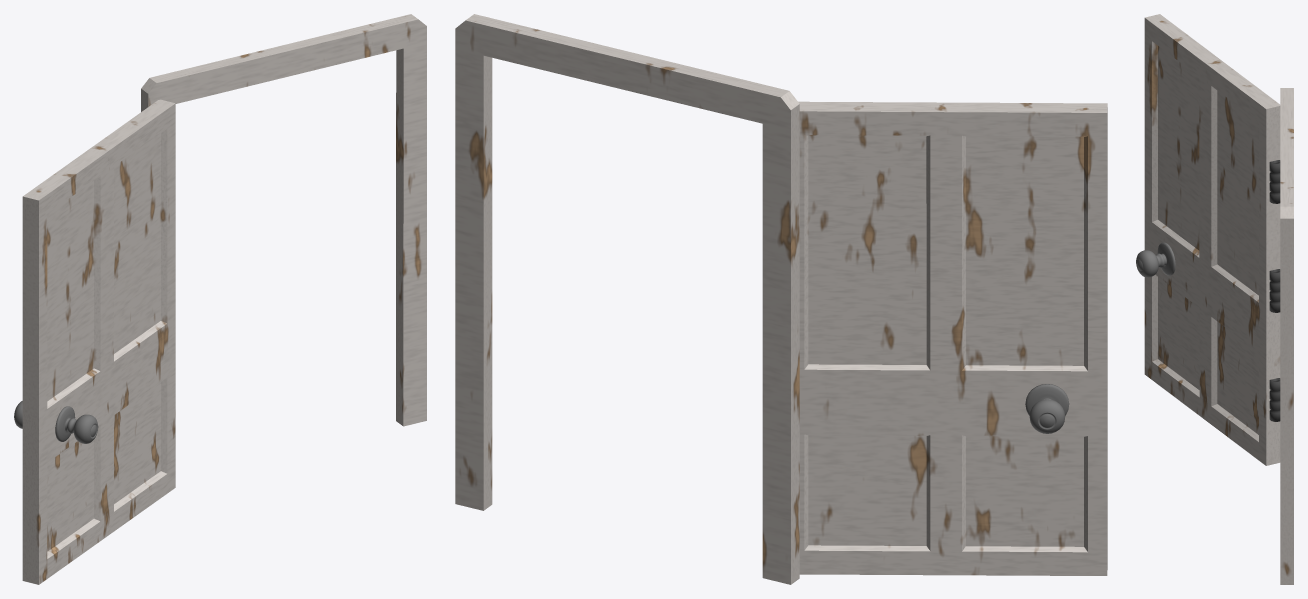
File: Door.fbx
3 renders of one model, left to right at view 1: azimuth 30°, elevation 25°; view 2: azimuth 150°, elevation 25°; view 3: azimuth 270°, elevation 25°, orthographic. The views are drawn at different scales.
Parts seen in each view (by area): view 1: Door_Front, Door_Outline_Front, DoorKnob_Hinges_Front; view 2: Door_Front, Door_Outline_Front, DoorKnob_Hinges_Front; view 3: Door_Front, Door_Outline_Front, DoorKnob_Hinges_Front.
Part boxes in pixels (box(x1,y1,x2,y2)): Door_Front: box(22, 99, 175, 584); Door_Outline_Front: box(141, 14, 426, 426); DoorKnob_Hinges_Front: box(14, 401, 98, 443); Door_Front: box(798, 101, 1107, 575); Door_Outline_Front: box(455, 14, 799, 584); DoorKnob_Hinges_Front: box(1025, 384, 1069, 433); Door_Front: box(1144, 14, 1280, 465); Door_Outline_Front: box(1280, 88, 1293, 584); DoorKnob_Hinges_Front: box(1136, 160, 1280, 421).
Bounding box in the file's own units: 711 × 584 × 223.
3 materials, 1 textured.
